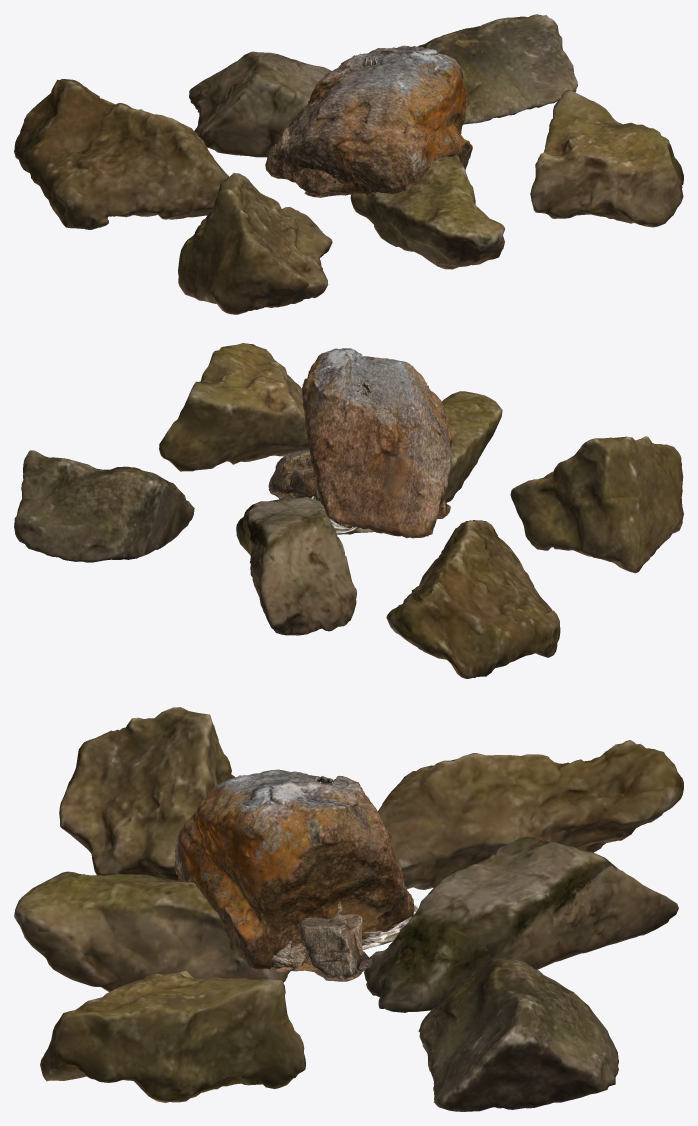
File: decor.glb
3 views of the same model, one above another, from view 1: azimuth 30°, elevation 25°; view 2: azimuth 150°, elevation 25°; view 3: azimuth 270°, elevation 25° (orthographic). The views are drawn at different scales.
Visible parts, largest first — view 1: boulder_04, rock_moss_set_01_rock01, rock_moss_set_01_rock06, rock_moss_set_01_rock04, rock_moss_set_01_rock03, rock_moss_set_01_rock05, rock_moss_set_01_rock02, boulder_02; view 2: boulder_04, rock_moss_set_01_rock04, rock_moss_set_01_rock01, rock_moss_set_01_rock03, rock_moss_set_01_rock06, rock_moss_set_01_rock02, rock_moss_set_01_rock05, boulder_02; view 3: boulder_04, rock_moss_set_01_rock02, rock_moss_set_01_rock01, rock_moss_set_01_rock06, rock_moss_set_01_rock03, rock_moss_set_01_rock05, rock_moss_set_01_rock04, boulder_02, gothic_statue.
Part boxes in pixels (<box>): boulder_04: <box>265,45,472,194</box>; rock_moss_set_01_rock01: <box>14,79,229,229</box>; rock_moss_set_01_rock06: <box>530,89,683,227</box>; rock_moss_set_01_rock04: <box>178,173,332,314</box>; rock_moss_set_01_rock03: <box>418,14,577,124</box>; rock_moss_set_01_rock05: <box>350,155,504,269</box>; rock_moss_set_01_rock02: <box>189,51,331,157</box>; boulder_02: <box>293,168,348,197</box>; boulder_04: <box>301,348,451,538</box>; rock_moss_set_01_rock04: <box>510,436,683,573</box>; rock_moss_set_01_rock01: <box>386,520,560,678</box>; rock_moss_set_01_rock03: <box>14,450,194,562</box>; rock_moss_set_01_rock06: <box>159,343,309,471</box>; rock_moss_set_01_rock02: <box>236,497,356,635</box>; rock_moss_set_01_rock05: <box>442,391,502,502</box>; boulder_02: <box>268,448,450,519</box>; boulder_04: <box>174,769,414,970</box>; rock_moss_set_01_rock02: <box>364,836,678,1012</box>; rock_moss_set_01_rock01: <box>377,740,683,889</box>; rock_moss_set_01_rock06: <box>40,970,305,1102</box>; rock_moss_set_01_rock03: <box>418,956,618,1111</box>; rock_moss_set_01_rock05: <box>14,871,290,991</box>; rock_moss_set_01_rock04: <box>59,707,235,880</box>; boulder_02: <box>272,902,372,981</box>; gothic_statue: <box>314,775,418,949</box>.
Size of the model in its own units: 8 by 2.53 by 6.94.
10 materials, 10 textured.
